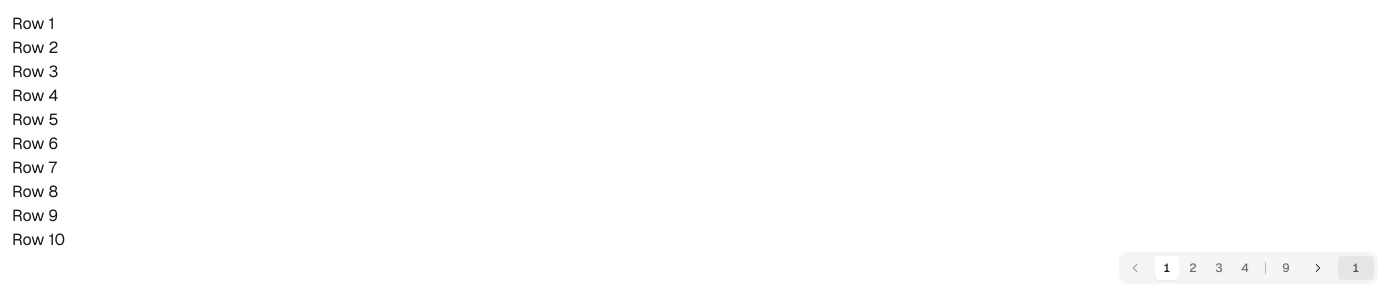
Test case: the go-to-page box › goes to the typed page on Enter, and not before
The image size is (1378, 299).
Replace the text in the field named "Go to page of rows" with "3" at (1356, 268), box [1338,256,1374,280]
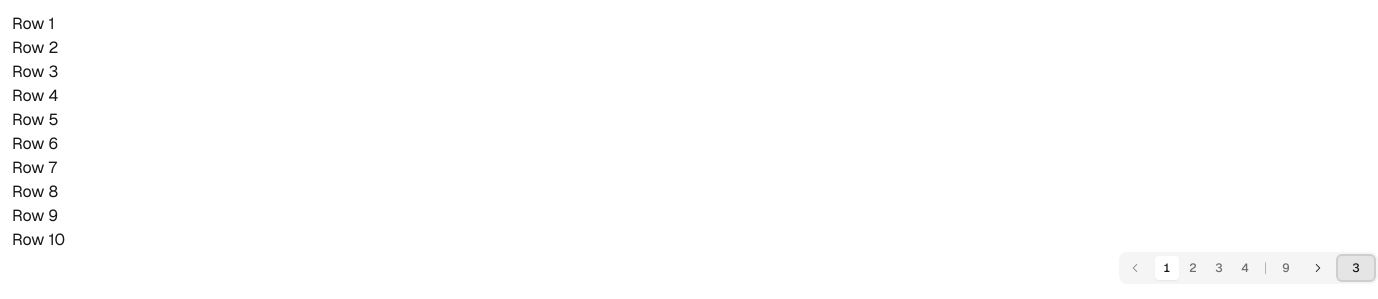
Expected: the list item "Row 1" is shown, [12,13,55,34]
Press Enter
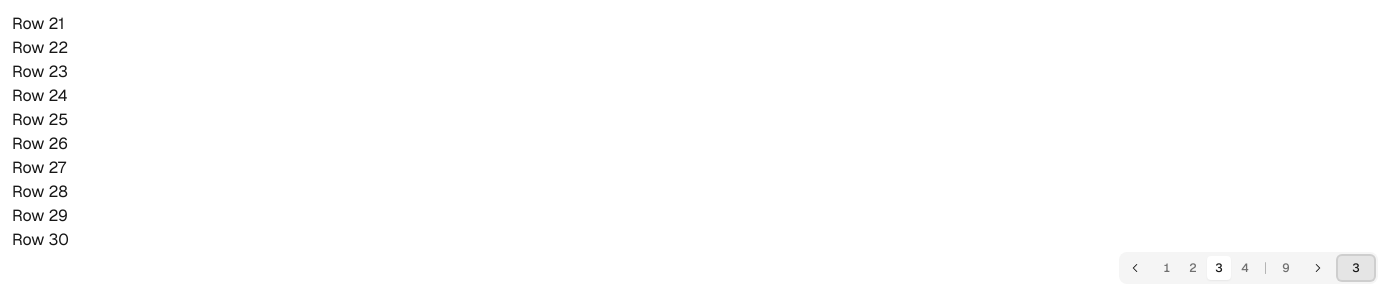
Expected: the list item "Row 21" is shown, [12,13,64,34]
